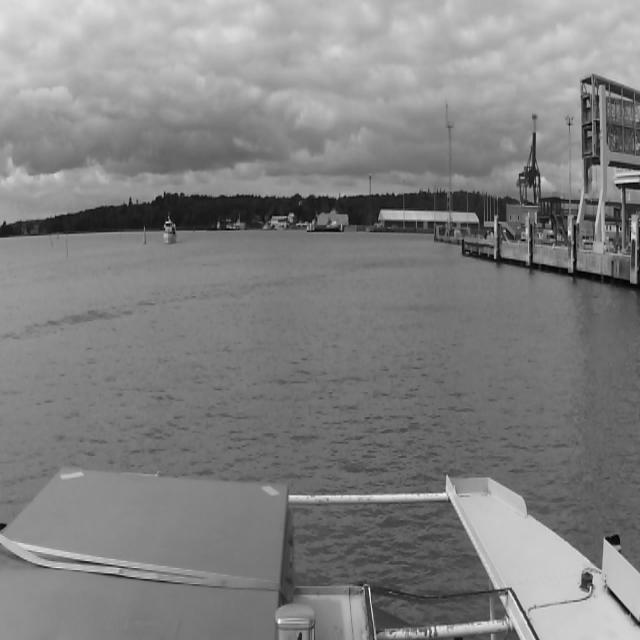buoy: (142, 226, 146, 245), (66, 233, 68, 258), (49, 235, 53, 247), (56, 231, 58, 239)
ship: (164, 213, 176, 246)
